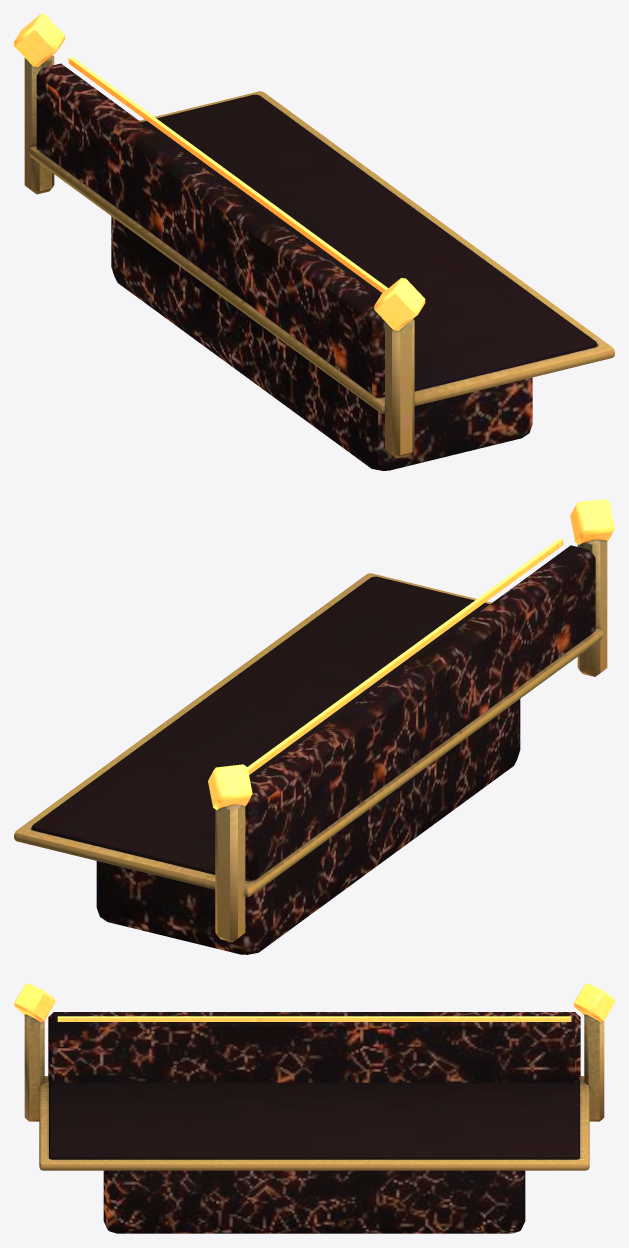
The model's file is console_fire.glb.
The picture shows the model from 3 angles, top to bottom: view 1: azimuth 30°, elevation 25°; view 2: azimuth 150°, elevation 25°; view 3: azimuth 270°, elevation 25°; orthographic projection. The views are drawn at different scales.
Parts seen in each view (by area): view 1: console_fire; view 2: console_fire; view 3: console_fire.
Part boxes in pixels (x1=…): console_fire: x1=14, y1=14, x2=614, y2=470; console_fire: x1=14, y1=499, x2=614, y2=954; console_fire: x1=14, y1=983, x2=614, y2=1233.
Bounding box in the file's own units: 2.38 × 2.19 × 6.55.
Materials: 1 (1 with a texture image).
